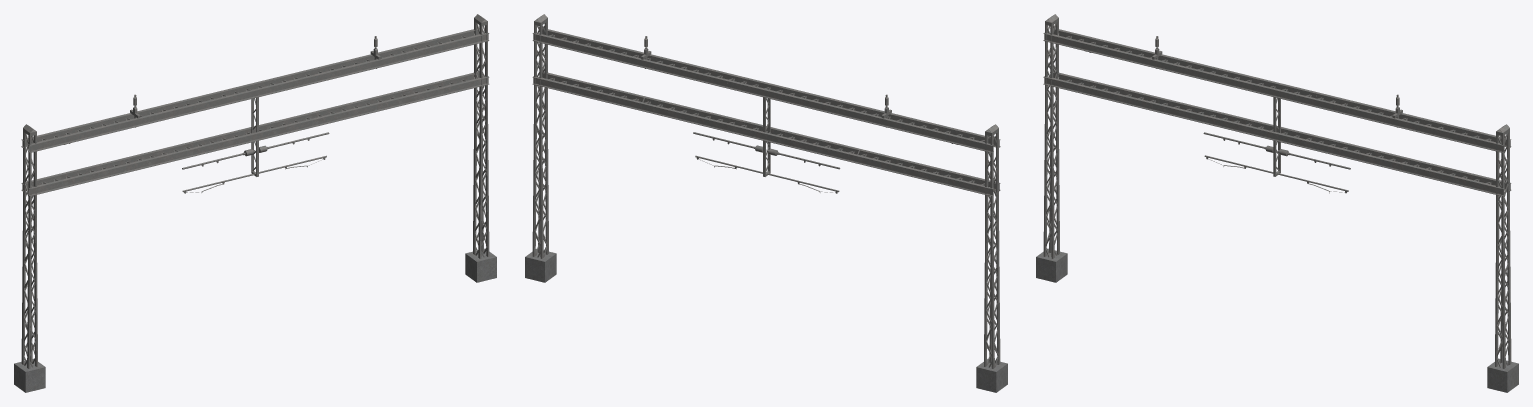
Rendered from Gantry-E.fbx.
3 renders of one model, left to right at view 1: azimuth 30°, elevation 25°; view 2: azimuth 150°, elevation 25°; view 3: azimuth 330°, elevation 25°, orthographic.
Visible parts, largest first — view 1: Gantry-E; view 2: Gantry-E; view 3: Gantry-E.
Part boxes in pixels (left/top/right/bottom): Gantry-E: left=14, top=14, right=496, bottom=392; Gantry-E: left=525, top=14, right=1007, bottom=392; Gantry-E: left=1036, top=14, right=1518, bottom=392.
Bounding box in the file's own units: 18.8 × 10.13 × 0.8.
